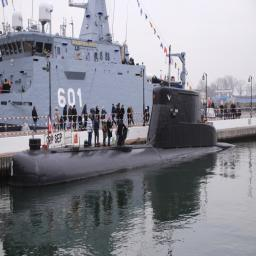submarine: (9, 89, 237, 190)
